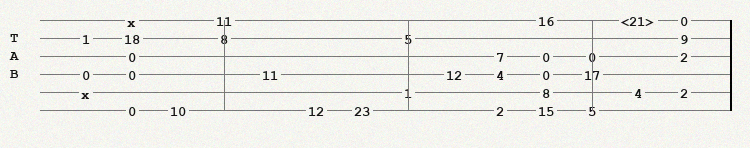0: (82, 68, 94, 81), (128, 68, 140, 81), (128, 104, 140, 117), (128, 50, 140, 63), (542, 68, 554, 81), (542, 50, 554, 63), (588, 50, 600, 63), (680, 14, 692, 27)
1: (82, 32, 94, 45), (404, 86, 416, 99)
10: (170, 104, 190, 117)
11: (216, 14, 236, 27), (262, 68, 282, 81)
12: (308, 104, 328, 117), (446, 68, 466, 81)
15: (538, 104, 558, 117)
16: (538, 14, 558, 27)
17: (584, 68, 604, 81)
18: (124, 32, 144, 45)
2: (496, 104, 508, 117), (680, 50, 692, 63), (680, 86, 692, 99)
23: (354, 104, 374, 117)
4: (496, 68, 508, 81), (634, 86, 646, 99)
5: (404, 32, 416, 45), (588, 104, 600, 117)
7: (496, 50, 508, 63)
8: (220, 32, 232, 45), (542, 86, 554, 99)
9: (680, 32, 692, 45)
harmonic: (621, 14, 659, 27)
x: (81, 87, 94, 97), (127, 15, 140, 25)
